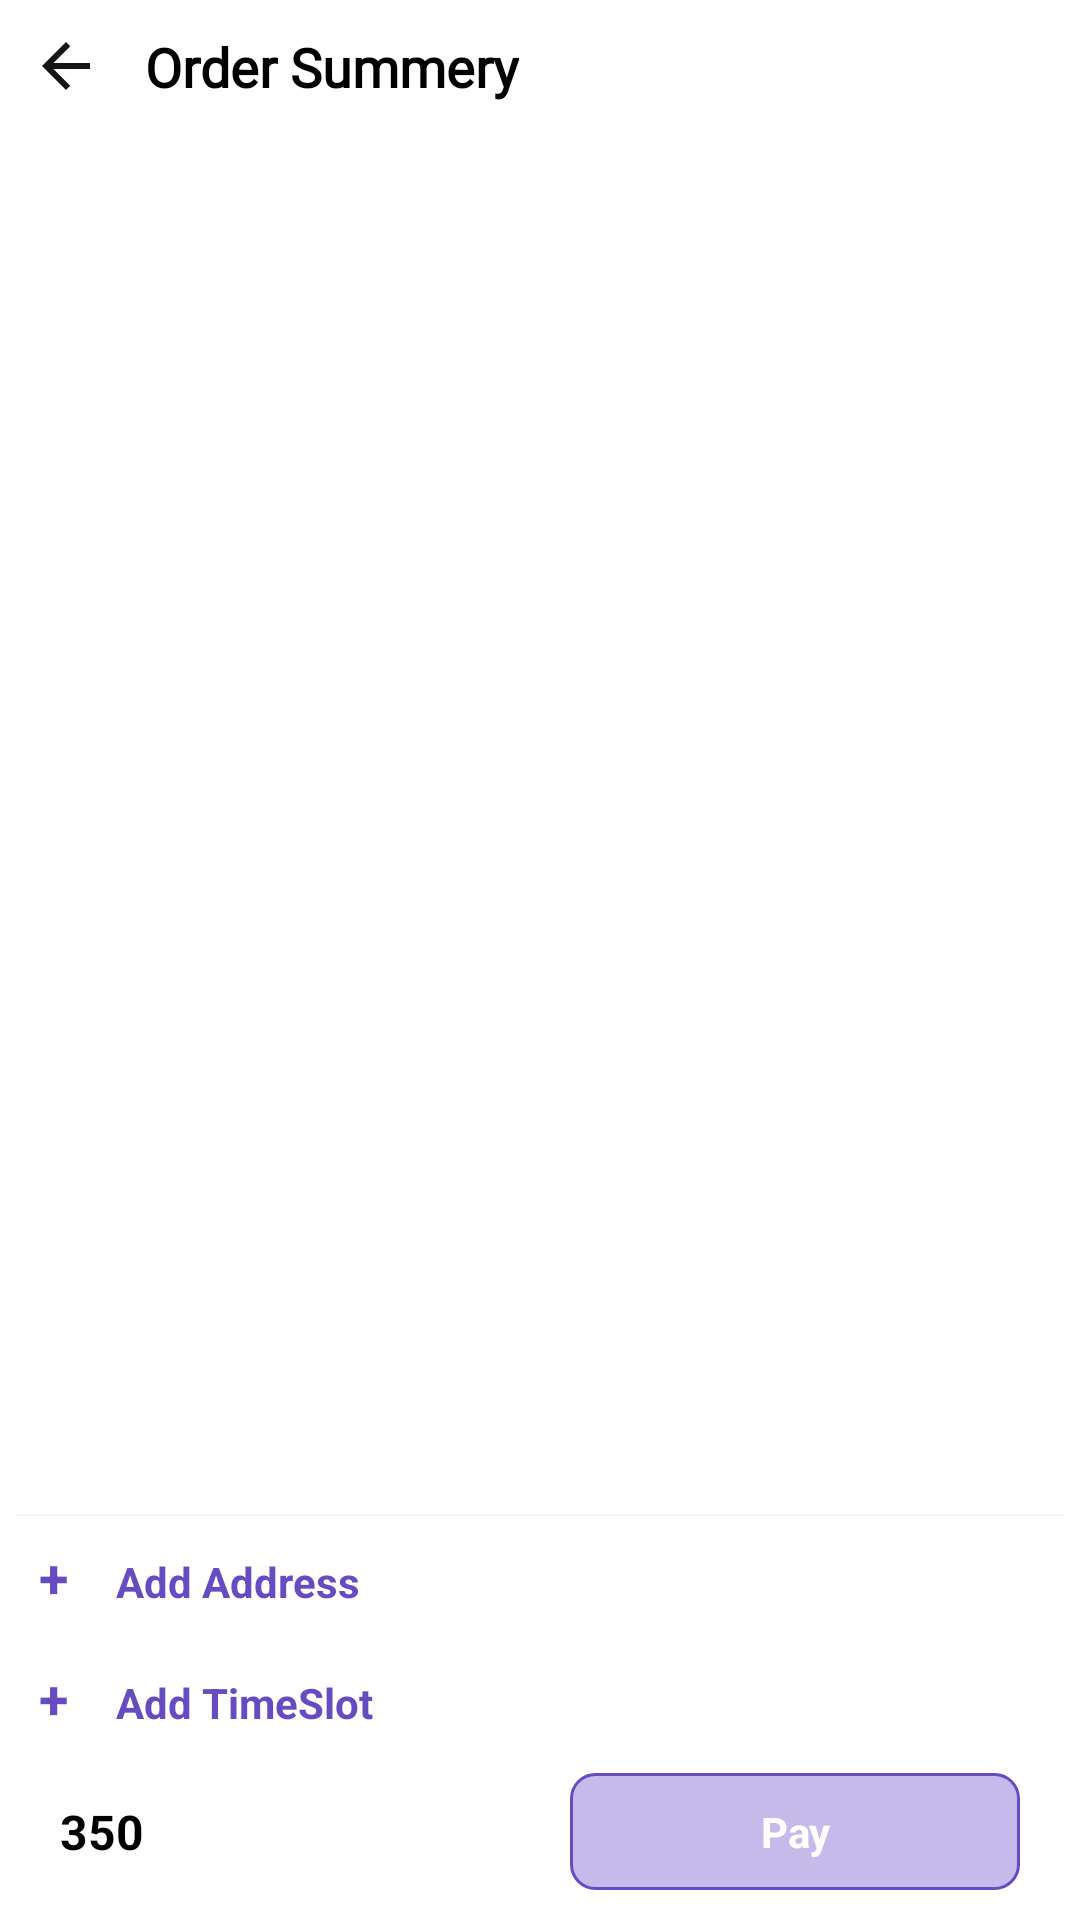

Icon click points for this 1080×1920 phone screenshot, format (x=x, y=y):
back: (x=66, y=66)
